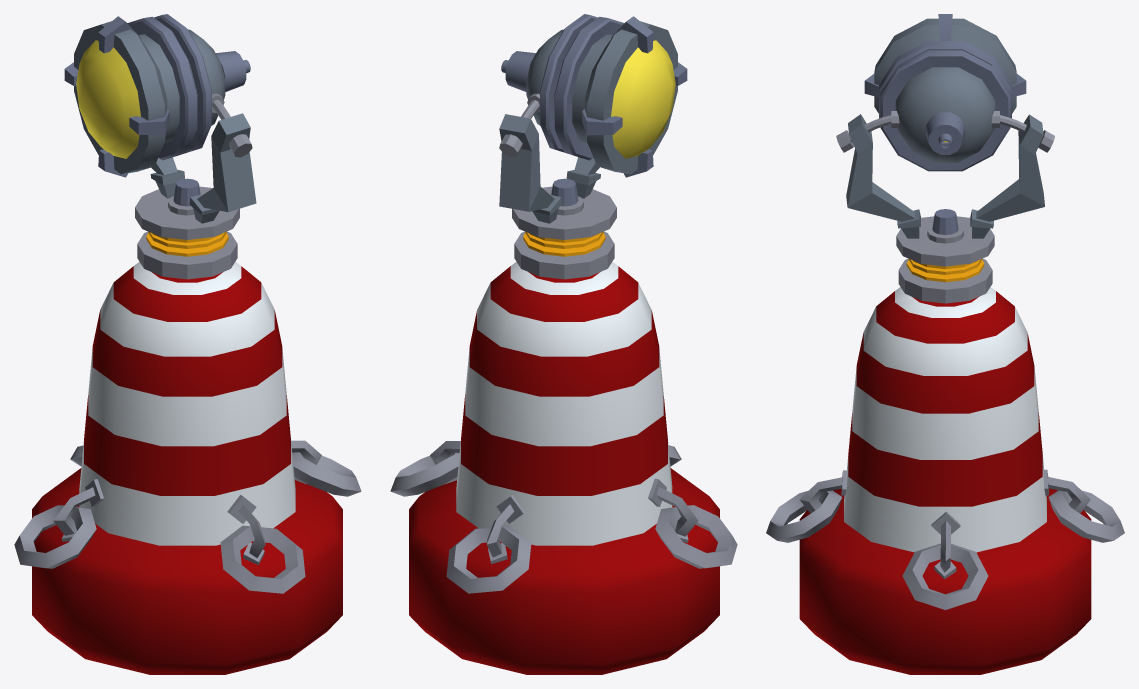
Rendered from PROP_Ice_Lighthouse01.FBX.
3 renders of one model, left to right at view 1: azimuth 30°, elevation 25°; view 2: azimuth 150°, elevation 25°; view 3: azimuth 270°, elevation 25°, orthographic. The views are drawn at different scales.
Visible parts, largest first — view 1: PROP_Ice_Lighthouse01; view 2: PROP_Ice_Lighthouse01; view 3: PROP_Ice_Lighthouse01.
Part boxes in pixels (<box>): PROP_Ice_Lighthouse01: <box>14,14,361,674</box>; PROP_Ice_Lighthouse01: <box>390,14,737,674</box>; PROP_Ice_Lighthouse01: <box>766,14,1124,674</box>.
Bounding box in the file's own units: 8.34 × 14.83 × 8.23.
